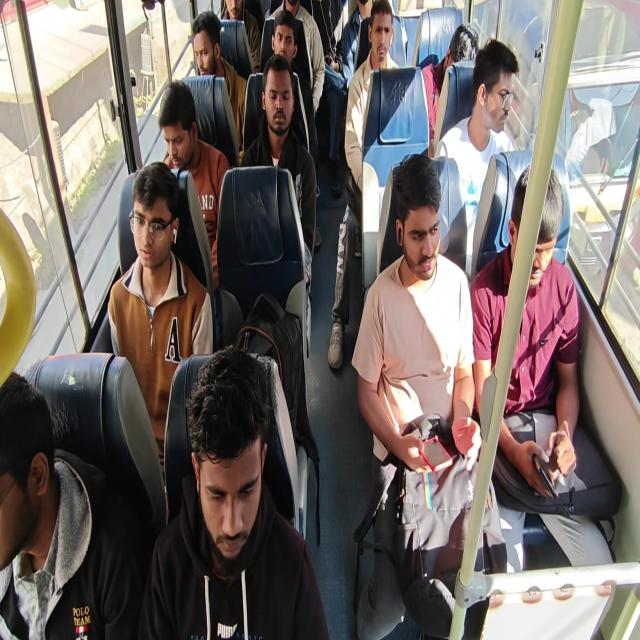person: (351, 152, 503, 638), (470, 163, 620, 573), (137, 345, 330, 639), (0, 369, 142, 639), (107, 161, 214, 484), (327, 0, 399, 369), (433, 38, 519, 280), (240, 53, 318, 290), (157, 80, 230, 290), (263, 8, 322, 248), (190, 10, 247, 155), (420, 23, 479, 156), (269, 1, 325, 115), (300, 0, 344, 72), (220, 0, 262, 74), (341, 0, 373, 89)
